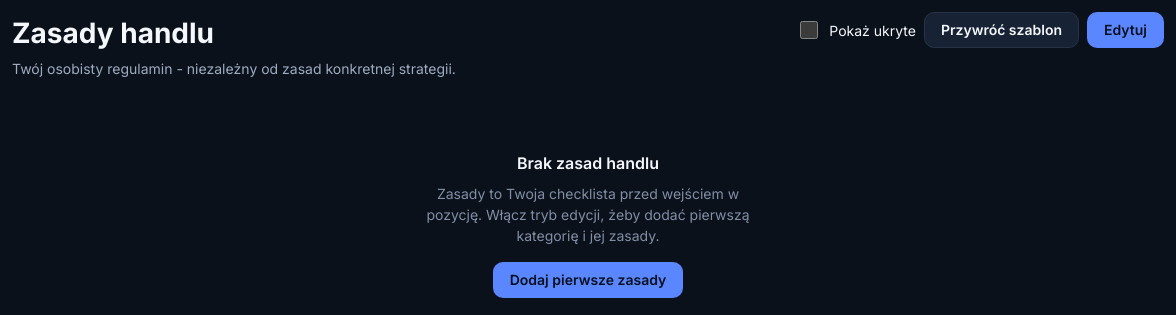
it: ZasadyHandluPage › brak kategorii poza edycją pokazuje pusty stan, 'Dodaj pierwsze zasady' wchodzi w tryb edycji
Click the button "Dodaj pierwsze zasady": (588, 280) [493, 262, 683, 298]
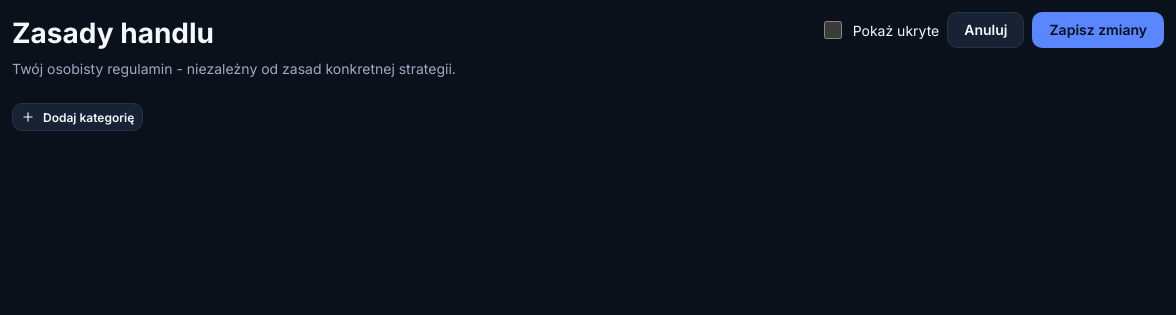
Result: the button "Dodaj kategorię" is shown at [12, 103, 143, 131]
